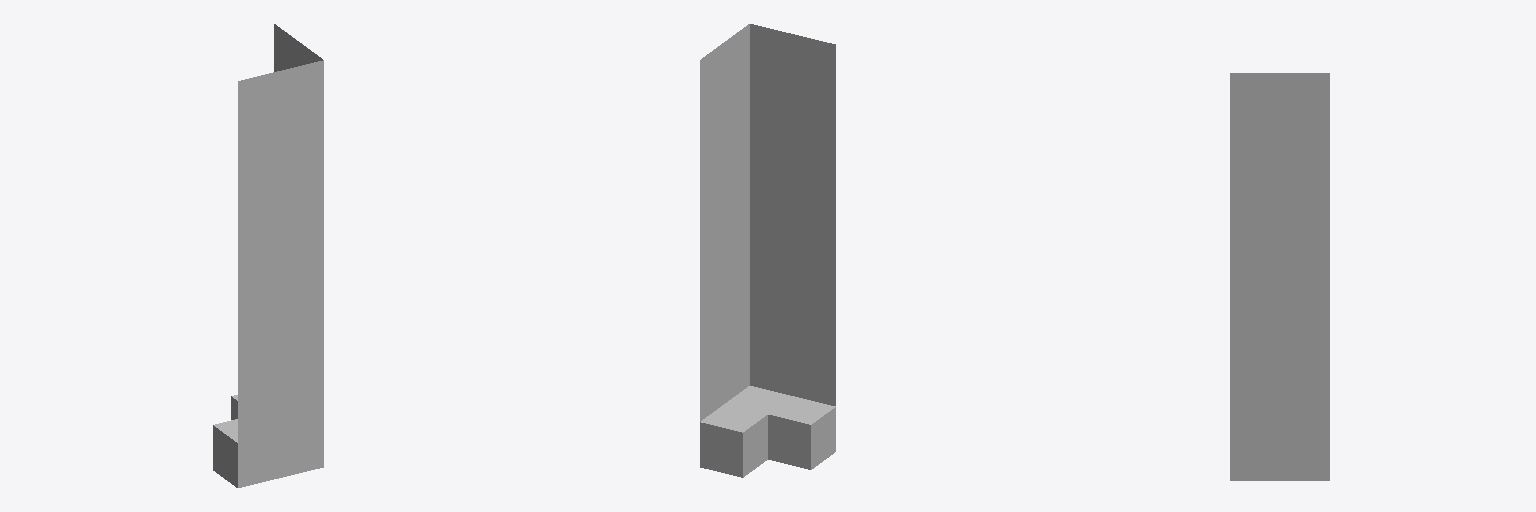
Rendered from wooden_wall_corner_inner.obj.
3 renders of one model, left to right at view 1: azimuth 30°, elevation 25°; view 2: azimuth 150°, elevation 25°; view 3: azimuth 270°, elevation 25°, orthographic.
Parts seen in each view (by area): view 1: Cube.002_Cube.012, Cube.001_Cube.011; view 2: Cube.002_Cube.012, Cube.001_Cube.011; view 3: Cube.001_Cube.011.
Part boxes in pixels (bbox=[...]): Cube.002_Cube.012: bbox=[213, 60, 323, 487]; Cube.001_Cube.011: bbox=[231, 24, 323, 475]; Cube.002_Cube.012: bbox=[750, 24, 835, 469]; Cube.001_Cube.011: bbox=[700, 24, 791, 477]; Cube.001_Cube.011: bbox=[1230, 73, 1329, 480].
Size of the model in its own units: 2 by 9 by 2.